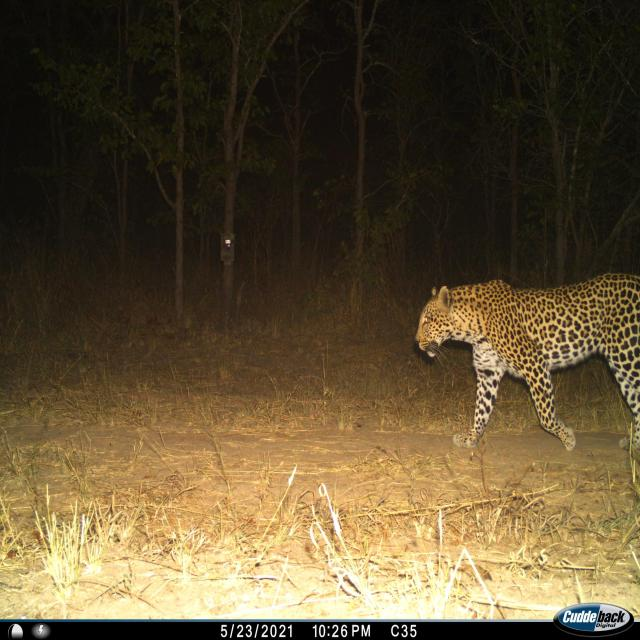Leopard: (420, 264, 640, 466)
